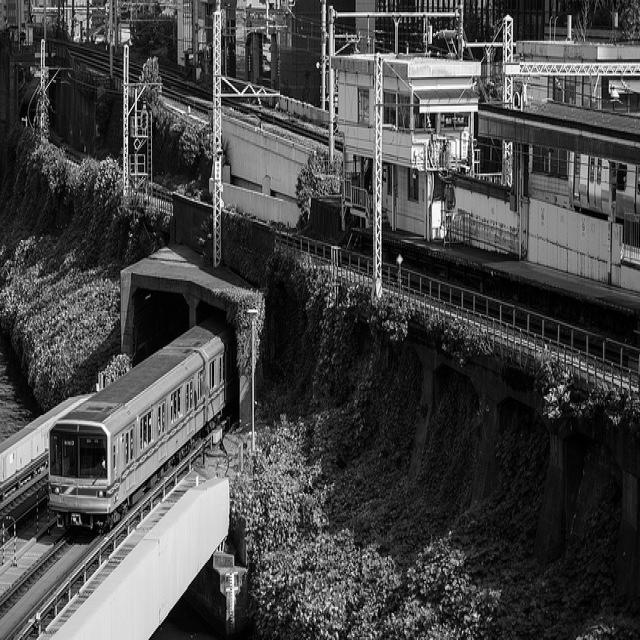pole: (246, 318, 257, 453)
